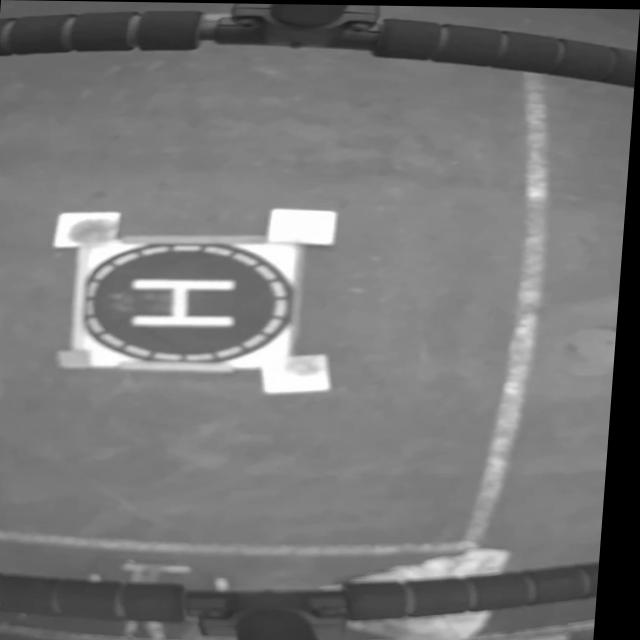Helipad: (136, 279, 239, 326)
